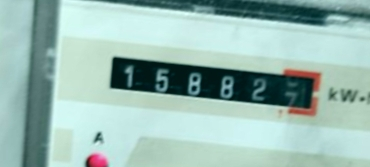1: (119, 65, 135, 91)
2: (248, 78, 266, 103)
5: (150, 67, 169, 95)
7: (280, 90, 297, 110)
8: (183, 72, 202, 100), (216, 75, 234, 102)
screen: (91, 41, 329, 131)
